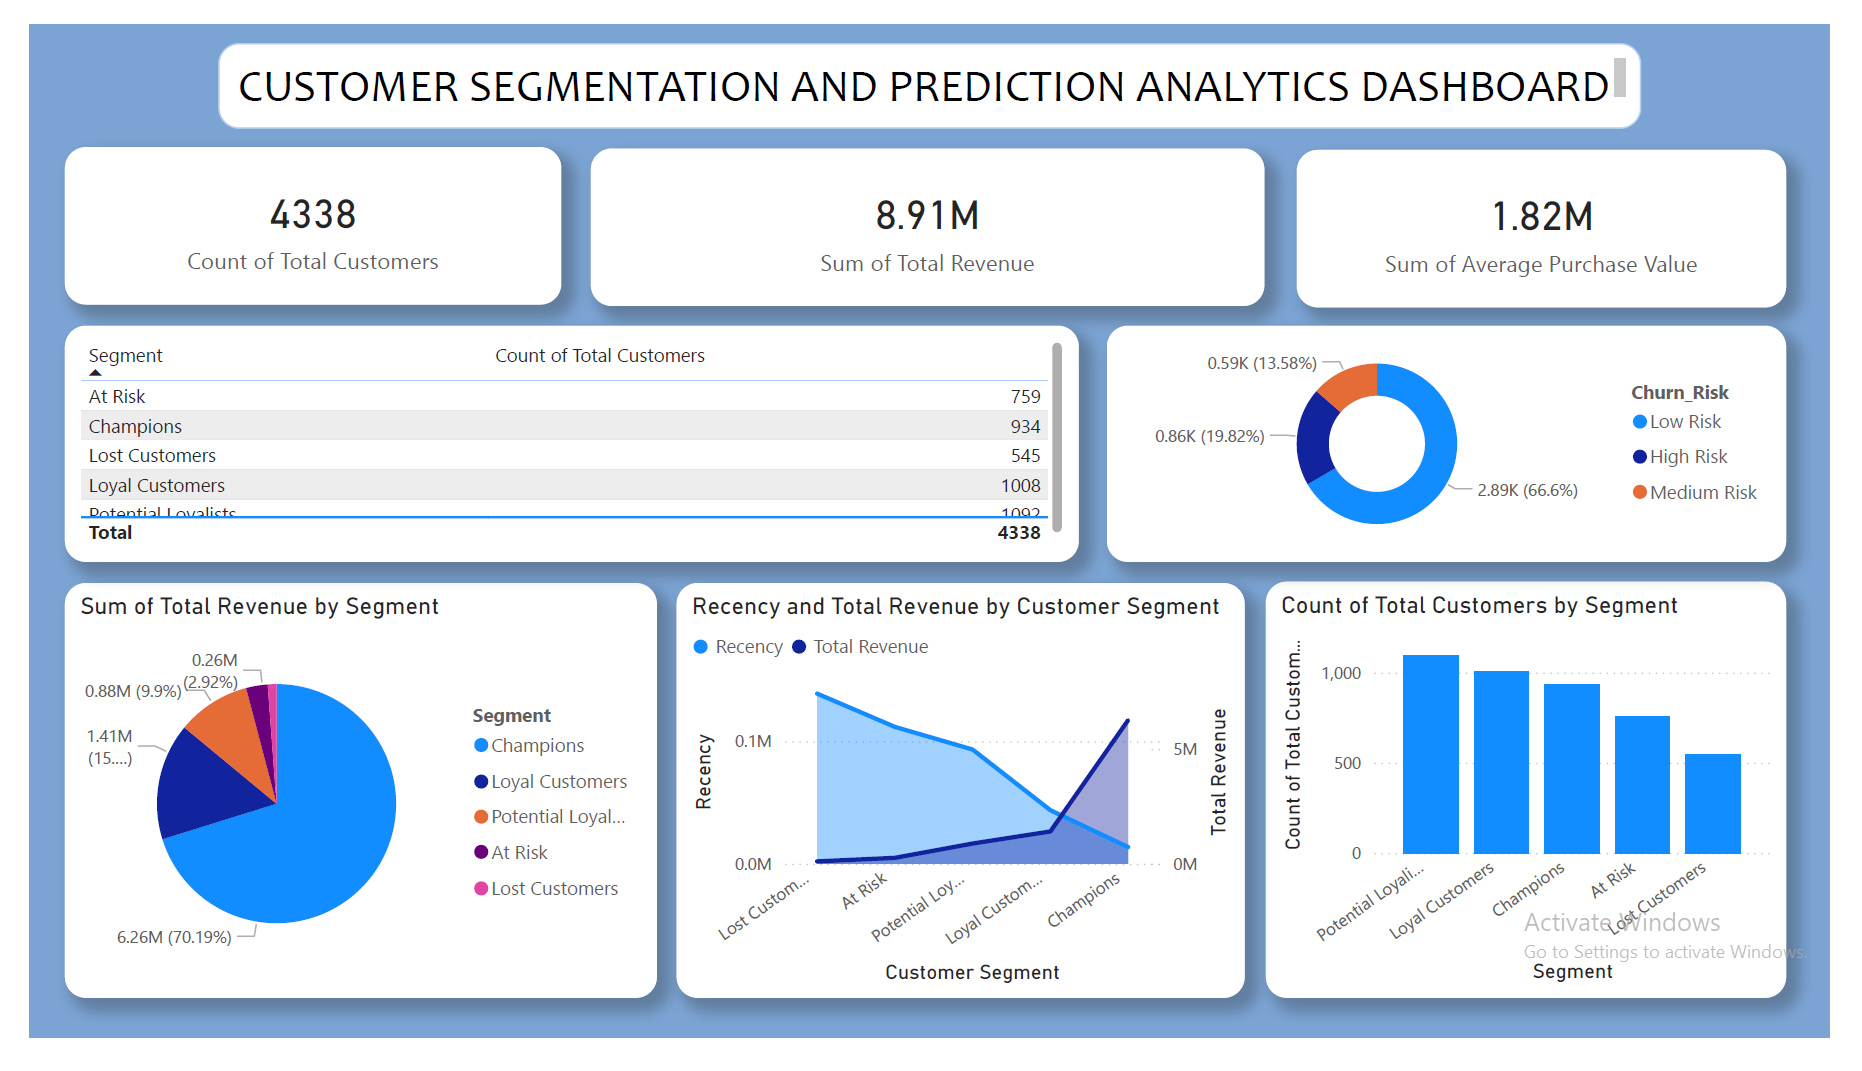

The page's visual inventory and layout, read from the dashboard file:
{"tool":"powerbi","page":{"name":"Page 1","canvas":[1280,720],"ordinal":0},"visuals":[{"type":"card","fields":{"Values":["CountNonNull(rfm_with_predictions.CustomerID)"]},"box":[25.3,86.9,352.3,112.2],"z":0},{"type":"card","fields":{"Values":["Sum(rfm_with_predictions.Monetary)"]},"box":[399.3,88.1,479,112.2],"z":1000},{"type":"card","fields":{"Values":["Sum(rfm_with_predictions.Avg_Purchase_Value)"]},"box":[901.2,89.3,347.5,112.2],"z":2000},{"type":"pieChart","fields":{"Y":["Sum(rfm_with_predictions.Total Revenue)"],"Category":["rfm_with_predictions.Segment"]},"box":[25.3,396.9,421,295.6],"z":3000},{"type":"columnChart","fields":{"Category":["rfm_with_predictions.Segment"],"Y":["CountNonNull(rfm_with_predictions.Total Customers)"]},"box":[879.5,395.7,369.2,296.8],"z":4000},{"type":"tableEx","fields":{"Values":["rfm_with_predictions.Segment","CountNonNull(rfm_with_predictions.Total Customers)"]},"box":[25.3,213.5,720.2,168.9],"z":5000},{"type":"donutChart","fields":{"Category":["rfm_with_predictions.Churn_Risk"],"Y":["CountNonNull(rfm_with_predictions.Total Customers)"]},"box":[766.1,213.5,482.6,168.9],"z":6000},{"type":"textbox","box":[133.9,13.3,1012.2,60.3],"z":7000},{"type":"areaChart","fields":{"Category":["rfm_with_predictions.Segment"],"Y":["Sum(rfm_with_predictions.Recency)"],"Y2":["Sum(rfm_with_predictions.Total Revenue)"]},"box":[459.7,396.9,404.2,295.6],"z":8000}]}

Visuals, with their boxes in screenshot pixels (x1, y1, x2, y2), scaled from the page's 1280x720 canvas onto the 1862x1071 screenshot:
card - CountNonNull(rfm_with_predictions.CustomerID): pyautogui.locateOnScreen(37, 129, 549, 296)
card - Sum(rfm_with_predictions.Monetary): pyautogui.locateOnScreen(581, 131, 1278, 298)
card - Sum(rfm_with_predictions.Avg_Purchase_Value): pyautogui.locateOnScreen(1311, 133, 1816, 300)
pieChart - Sum(rfm_with_predictions.Total Revenue) x rfm_with_predictions.Segment: pyautogui.locateOnScreen(37, 590, 649, 1030)
columnChart - rfm_with_predictions.Segment x CountNonNull(rfm_with_predictions.Total Customers): pyautogui.locateOnScreen(1279, 589, 1816, 1030)
tableEx - rfm_with_predictions.Segment x CountNonNull(rfm_with_predictions.Total Customers): pyautogui.locateOnScreen(37, 318, 1084, 569)
donutChart - rfm_with_predictions.Churn_Risk x CountNonNull(rfm_with_predictions.Total Customers): pyautogui.locateOnScreen(1114, 318, 1816, 569)
textbox: pyautogui.locateOnScreen(195, 20, 1667, 109)
areaChart - rfm_with_predictions.Segment x Sum(rfm_with_predictions.Recency): pyautogui.locateOnScreen(669, 590, 1257, 1030)
